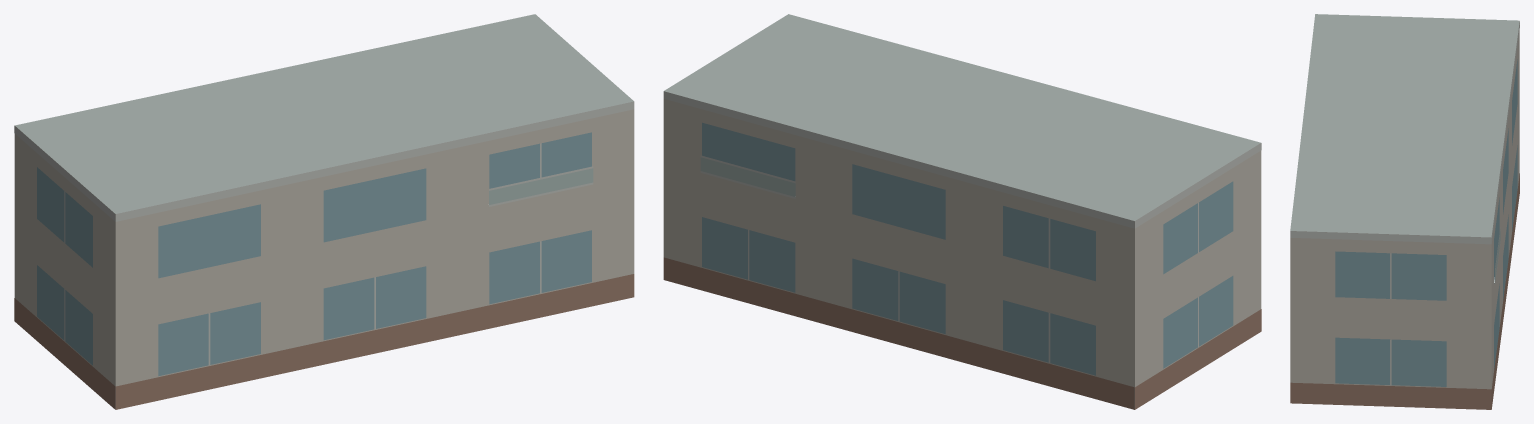
File: survey-upis-32904363.glb
The picture shows the model from 3 angles, left to right: view 1: azimuth 30°, elevation 25°; view 2: azimuth 150°, elevation 25°; view 3: azimuth 270°, elevation 25°; orthographic projection. The views are drawn at different scales.
Parts seen in each view (by area): view 1: survey-upis-32904363.tmp; view 2: survey-upis-32904363.tmp; view 3: survey-upis-32904363.tmp.
Part boxes in pixels (box(x1,y1,x2,y2)): survey-upis-32904363.tmp: box(14, 14, 634, 409); survey-upis-32904363.tmp: box(663, 14, 1261, 409); survey-upis-32904363.tmp: box(1290, 14, 1519, 409).
Size of the model in its own units: 16.96 by 6.1 by 7.37.
